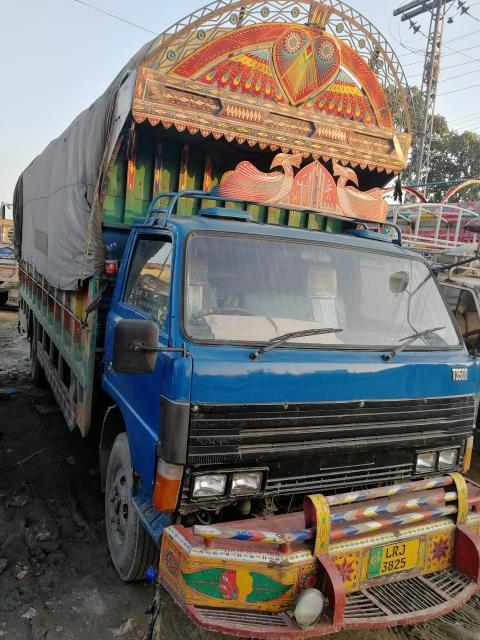plate: (366, 532, 431, 578)
